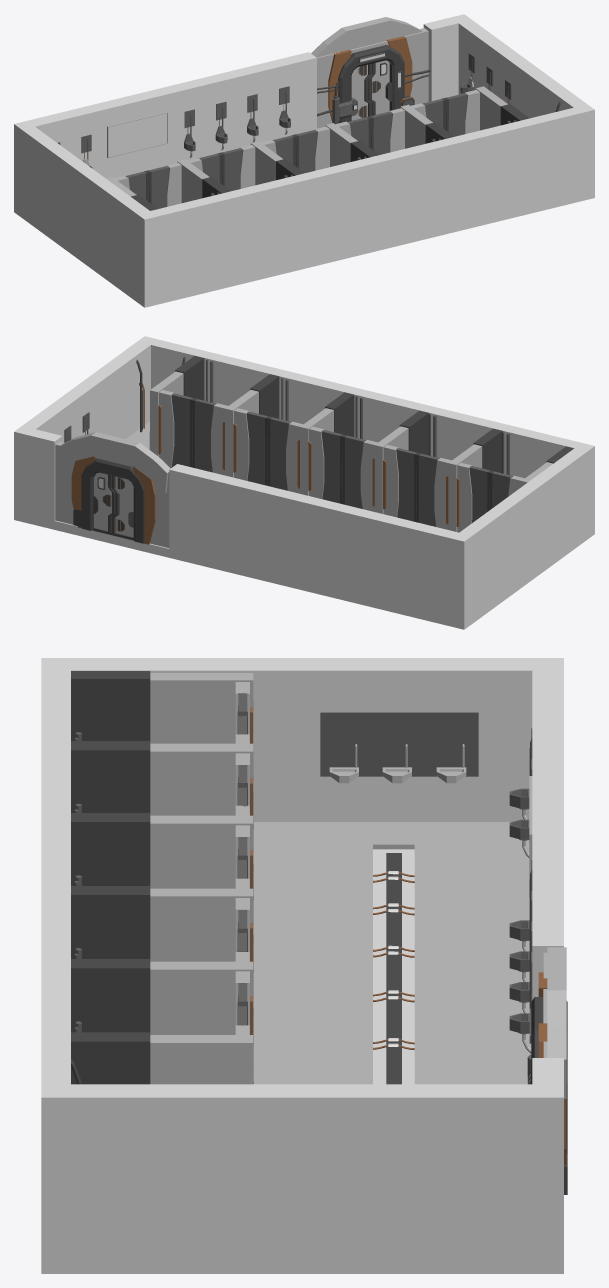
The picture shows the model from 3 angles, top to bottom: view 1: azimuth 30°, elevation 25°; view 2: azimuth 150°, elevation 25°; view 3: azimuth 270°, elevation 25°; orthographic projection. The views are drawn at different scales.
Parts seen in each view (by area): view 1: Cube.100, Cube.102, Cube.097, Cube.124, Cube.098, Cube.099, Cube.126, Cube.120, Cube.118, Cube.108, Cube.116, Cube.125 (+4 smaller); view 2: Cube.100, Cube.102, Cube.097, Cube.126, Cube.120, Cube.118, Cube.119, Cube.125, Cube.117, Cube.115, Cube.116, Cube.099 (+3 smaller); view 3: Cube.100, Cube.102, Cube.101, Cube.124, Cube.097.
Part boxes in pixels (x1,y1,x2,y2): Cube.100: (14, 14, 594, 307); Cube.102: (106, 86, 529, 210); Cube.097: (311, 17, 430, 128); Cube.124: (57, 53, 511, 168); Cube.098: (368, 60, 389, 115); Cube.099: (351, 63, 372, 120); Cube.126: (443, 93, 467, 136); Cube.120: (368, 111, 392, 154); Cube.118: (293, 130, 317, 172); Cube.108: (146, 166, 169, 208); Cube.116: (219, 148, 242, 190); Cube.125: (422, 98, 446, 130); Cube.100: (14, 336, 594, 629); Cube.102: (149, 356, 573, 532); Cube.097: (55, 432, 170, 547); Cube.126: (171, 393, 195, 467); Cube.120: (246, 411, 270, 485); Cube.118: (321, 430, 345, 504); Cube.119: (267, 417, 291, 490); Cube.125: (192, 398, 216, 472); Cube.117: (342, 435, 366, 508); Cube.115: (416, 453, 439, 526); Cube.116: (396, 448, 419, 522); Cube.099: (111, 475, 133, 537); Cube.100: (41, 658, 563, 1273); Cube.102: (71, 671, 253, 1084); Cube.101: (253, 822, 531, 1084); Cube.124: (320, 712, 532, 1053); Cube.097: (527, 947, 567, 1194).
Bounding box in the file's own units: 8828 × 1945 × 4467.
